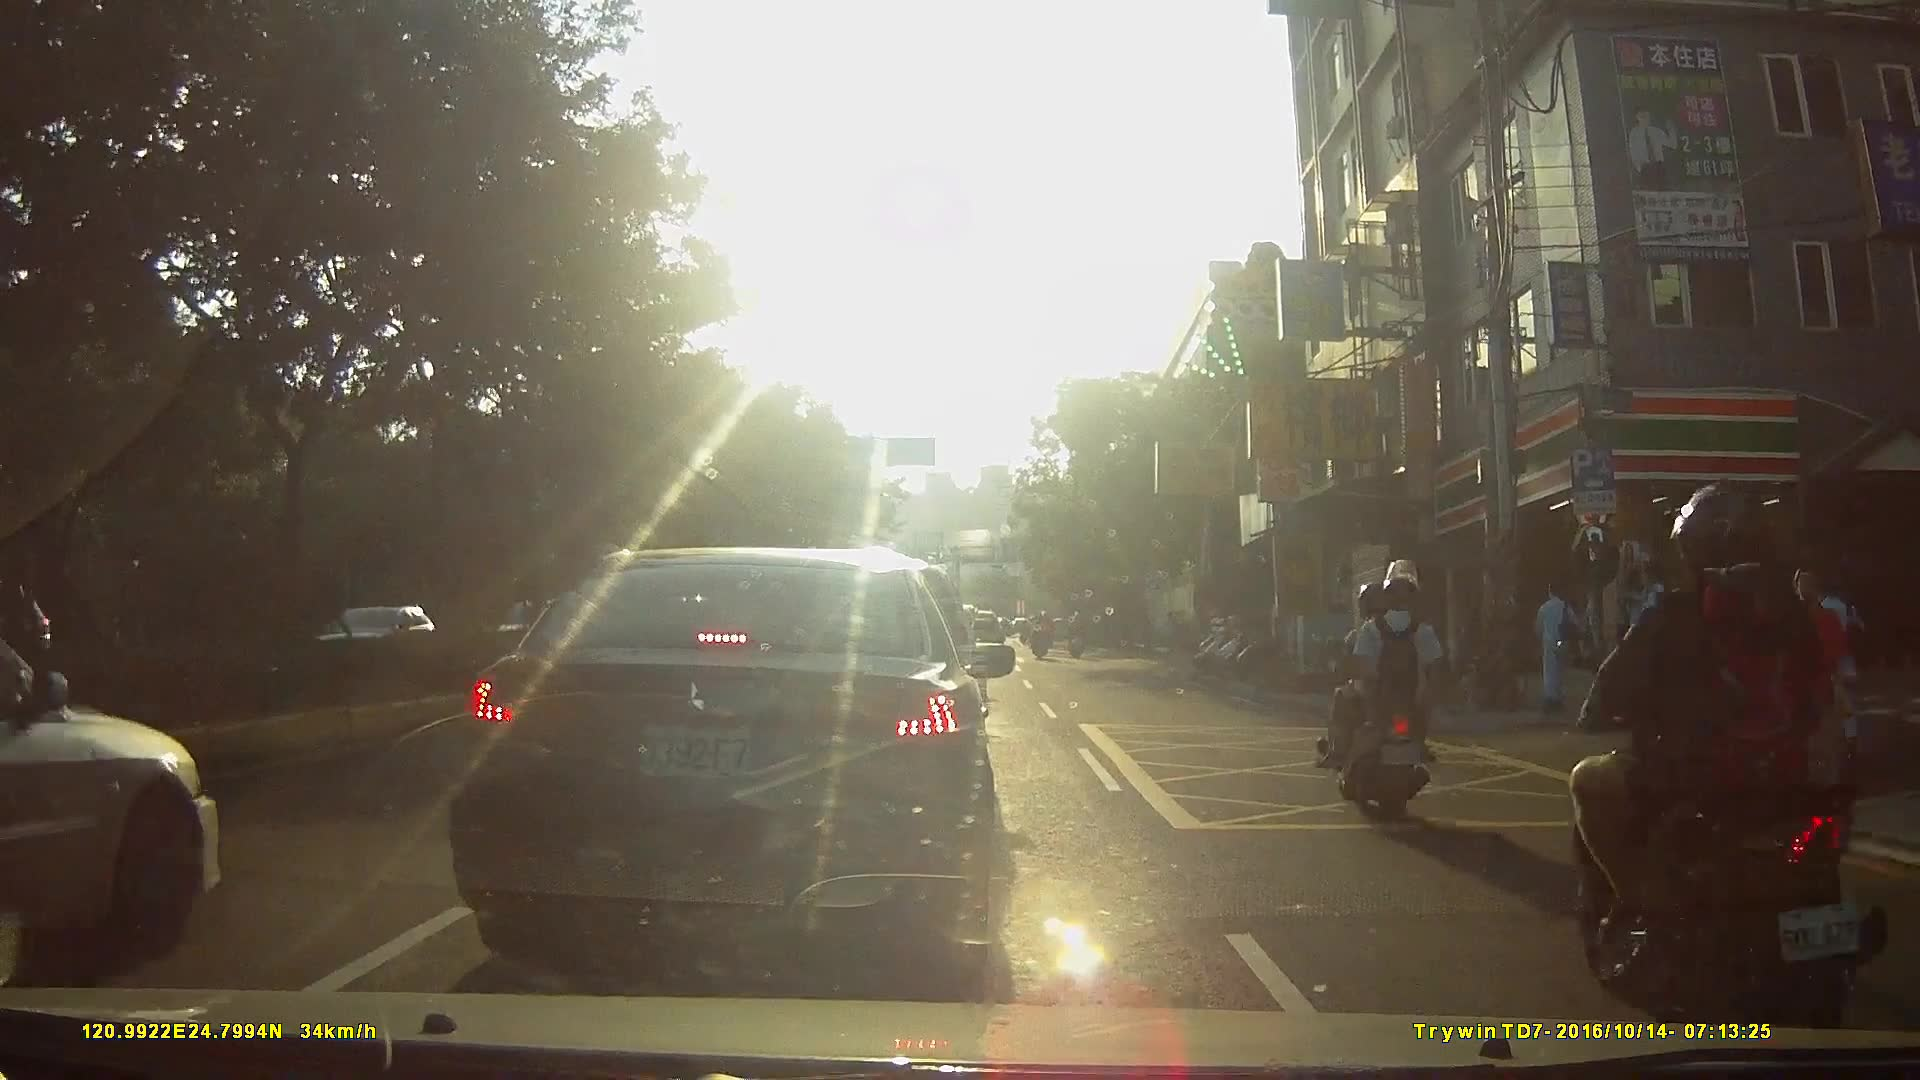pedestrian: (1773, 567, 1850, 830), (1535, 579, 1589, 715), (1626, 566, 1669, 692), (1680, 565, 1723, 683), (1619, 568, 1651, 699)
rider: (1568, 484, 1875, 1055), (1318, 560, 1449, 816), (1031, 608, 1052, 663), (1065, 613, 1087, 663)
vehicle: (452, 537, 1041, 973), (1, 621, 245, 980)
